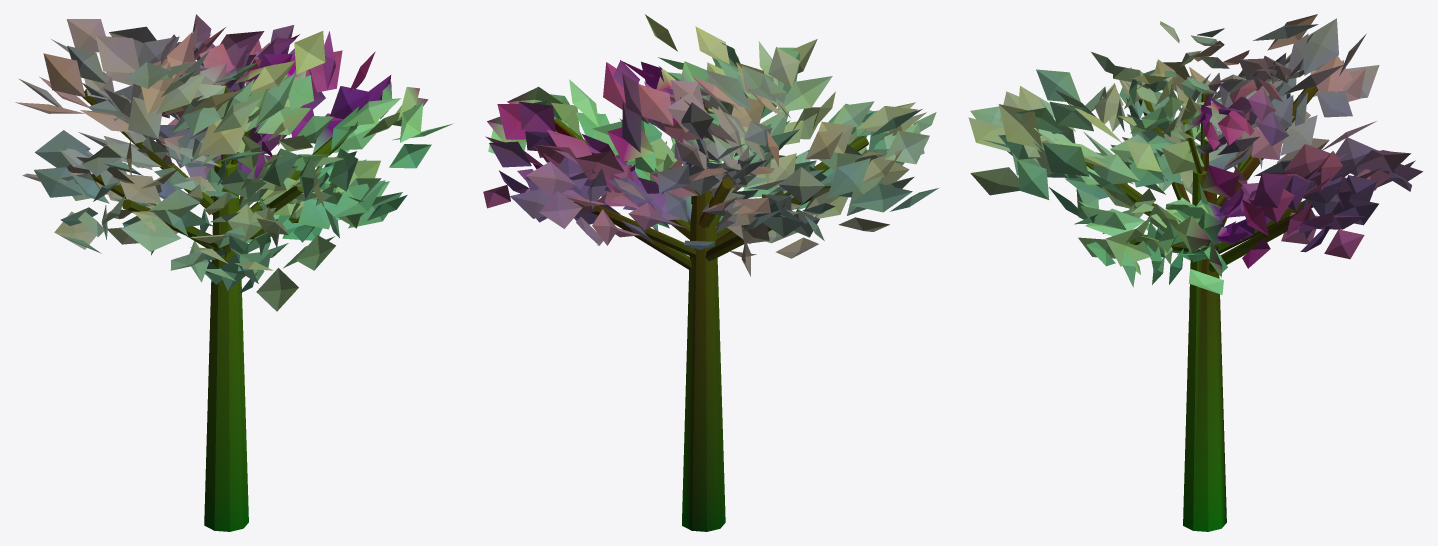
File: mature_broadleaf_02.glb
The picture shows the model from 3 angles, left to right: view 1: azimuth 30°, elevation 25°; view 2: azimuth 150°, elevation 25°; view 3: azimuth 270°, elevation 25°; orthographic projection. The views are drawn at different scales.
Parts seen in each view (by area): view 1: mature_broadleaf_02; view 2: mature_broadleaf_02; view 3: mature_broadleaf_02.
Boxes of the visible parts, x1,y1,x2,y2 form: mature_broadleaf_02: [15, 14, 453, 531]; mature_broadleaf_02: [483, 14, 938, 531]; mature_broadleaf_02: [968, 14, 1422, 531].
Bounding box in the file's own units: 11.3 × 12.36 × 10.68.
